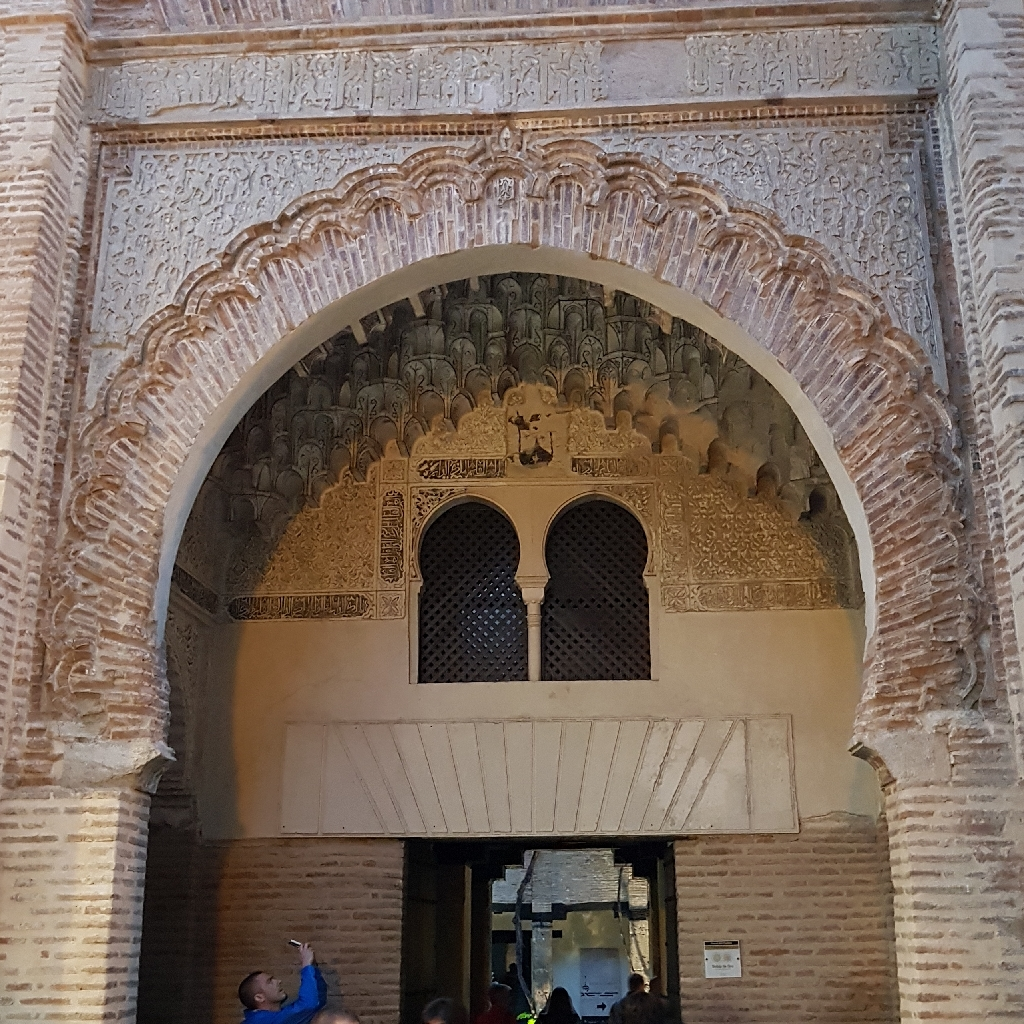arco-herradura: (93, 215, 937, 822), (401, 486, 535, 605), (533, 483, 660, 602)
dintel-adovelado: (332, 718, 746, 833)
